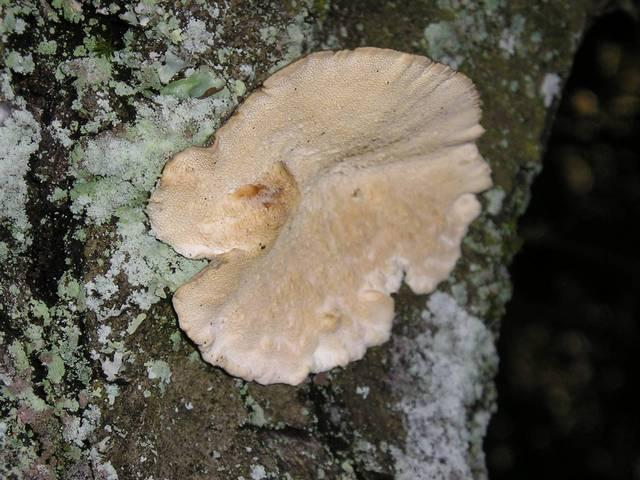Non-edible Mushroom: (143, 44, 494, 387)
